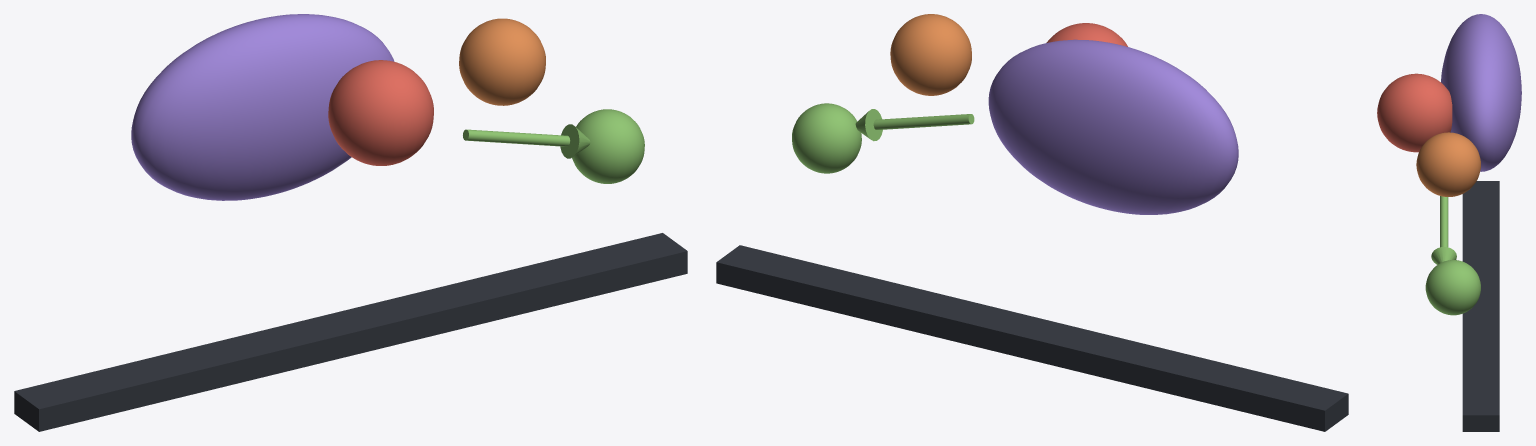
File: chem-biolink-enzyme-substrate.glb
3 views of the same model, side by side, from view 1: azimuth 30°, elevation 25°; view 2: azimuth 150°, elevation 25°; view 3: azimuth 270°, elevation 25° (orthographic). The views are drawn at different scales.
Parts seen in each view (by area): view 1: enzyme-body-with-active-site, biochemistry-bench, active-site-pocket-cutaway, substrate-fitting-shape, product-after-reaction, substrate-to-product-flow-shaft; view 2: enzyme-body-with-active-site, biochemistry-bench, substrate-fitting-shape, product-after-reaction, substrate-to-product-flow-shaft, active-site-pocket-cutaway; view 3: enzyme-body-with-active-site, biochemistry-bench, active-site-pocket-cutaway, substrate-fitting-shape, product-after-reaction, substrate-to-product-flow-shaft, substrate-to-product-flow-head.
Boxes of the visible parts, box(x1,y1,x2,y2) form: enzyme-body-with-active-site: box(131, 14, 394, 200); biochemistry-bench: box(14, 233, 687, 431); active-site-pocket-cutaway: box(328, 60, 433, 165); substrate-fitting-shape: box(459, 18, 545, 105); product-after-reaction: box(572, 109, 644, 183); substrate-to-product-flow-shaft: box(463, 129, 570, 146); enzyme-body-with-active-site: box(988, 39, 1238, 214); biochemistry-bench: box(716, 245, 1348, 431); substrate-fitting-shape: box(890, 14, 971, 95); product-after-reaction: box(792, 103, 861, 173); substrate-to-product-flow-shaft: box(873, 114, 974, 129); active-site-pocket-cutaway: box(1046, 23, 1127, 46); enzyme-body-with-active-site: box(1441, 14, 1521, 171); biochemistry-bench: box(1462, 181, 1499, 431); active-site-pocket-cutaway: box(1377, 73, 1452, 152); substrate-fitting-shape: box(1416, 132, 1480, 196); product-after-reaction: box(1425, 260, 1480, 315); substrate-to-product-flow-shaft: box(1440, 196, 1448, 247); substrate-to-product-flow-head: box(1431, 247, 1456, 264).
Size of what is drawn, in the model's own units: 2.4 by 1.21 by 0.6264.
